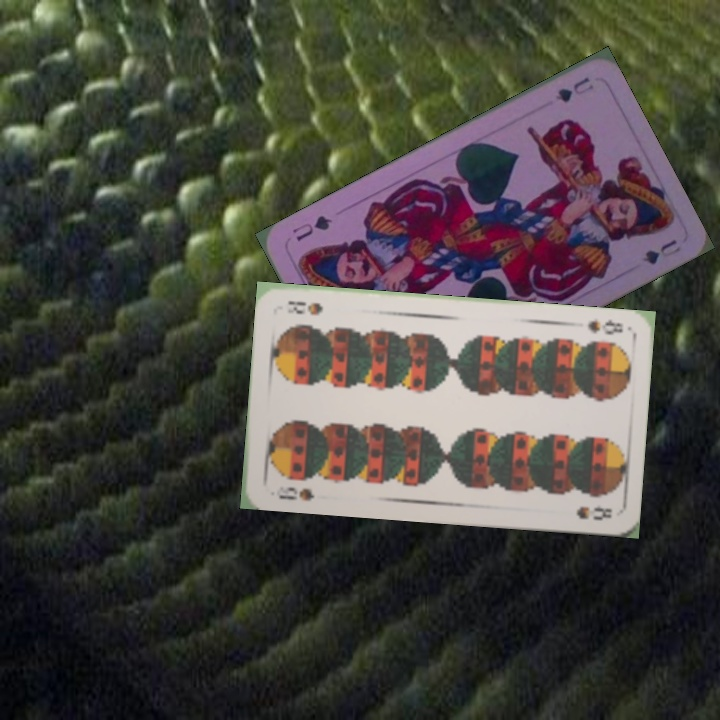GU: (551, 73, 597, 105)
S8: (583, 315, 626, 338), (272, 482, 317, 503)
